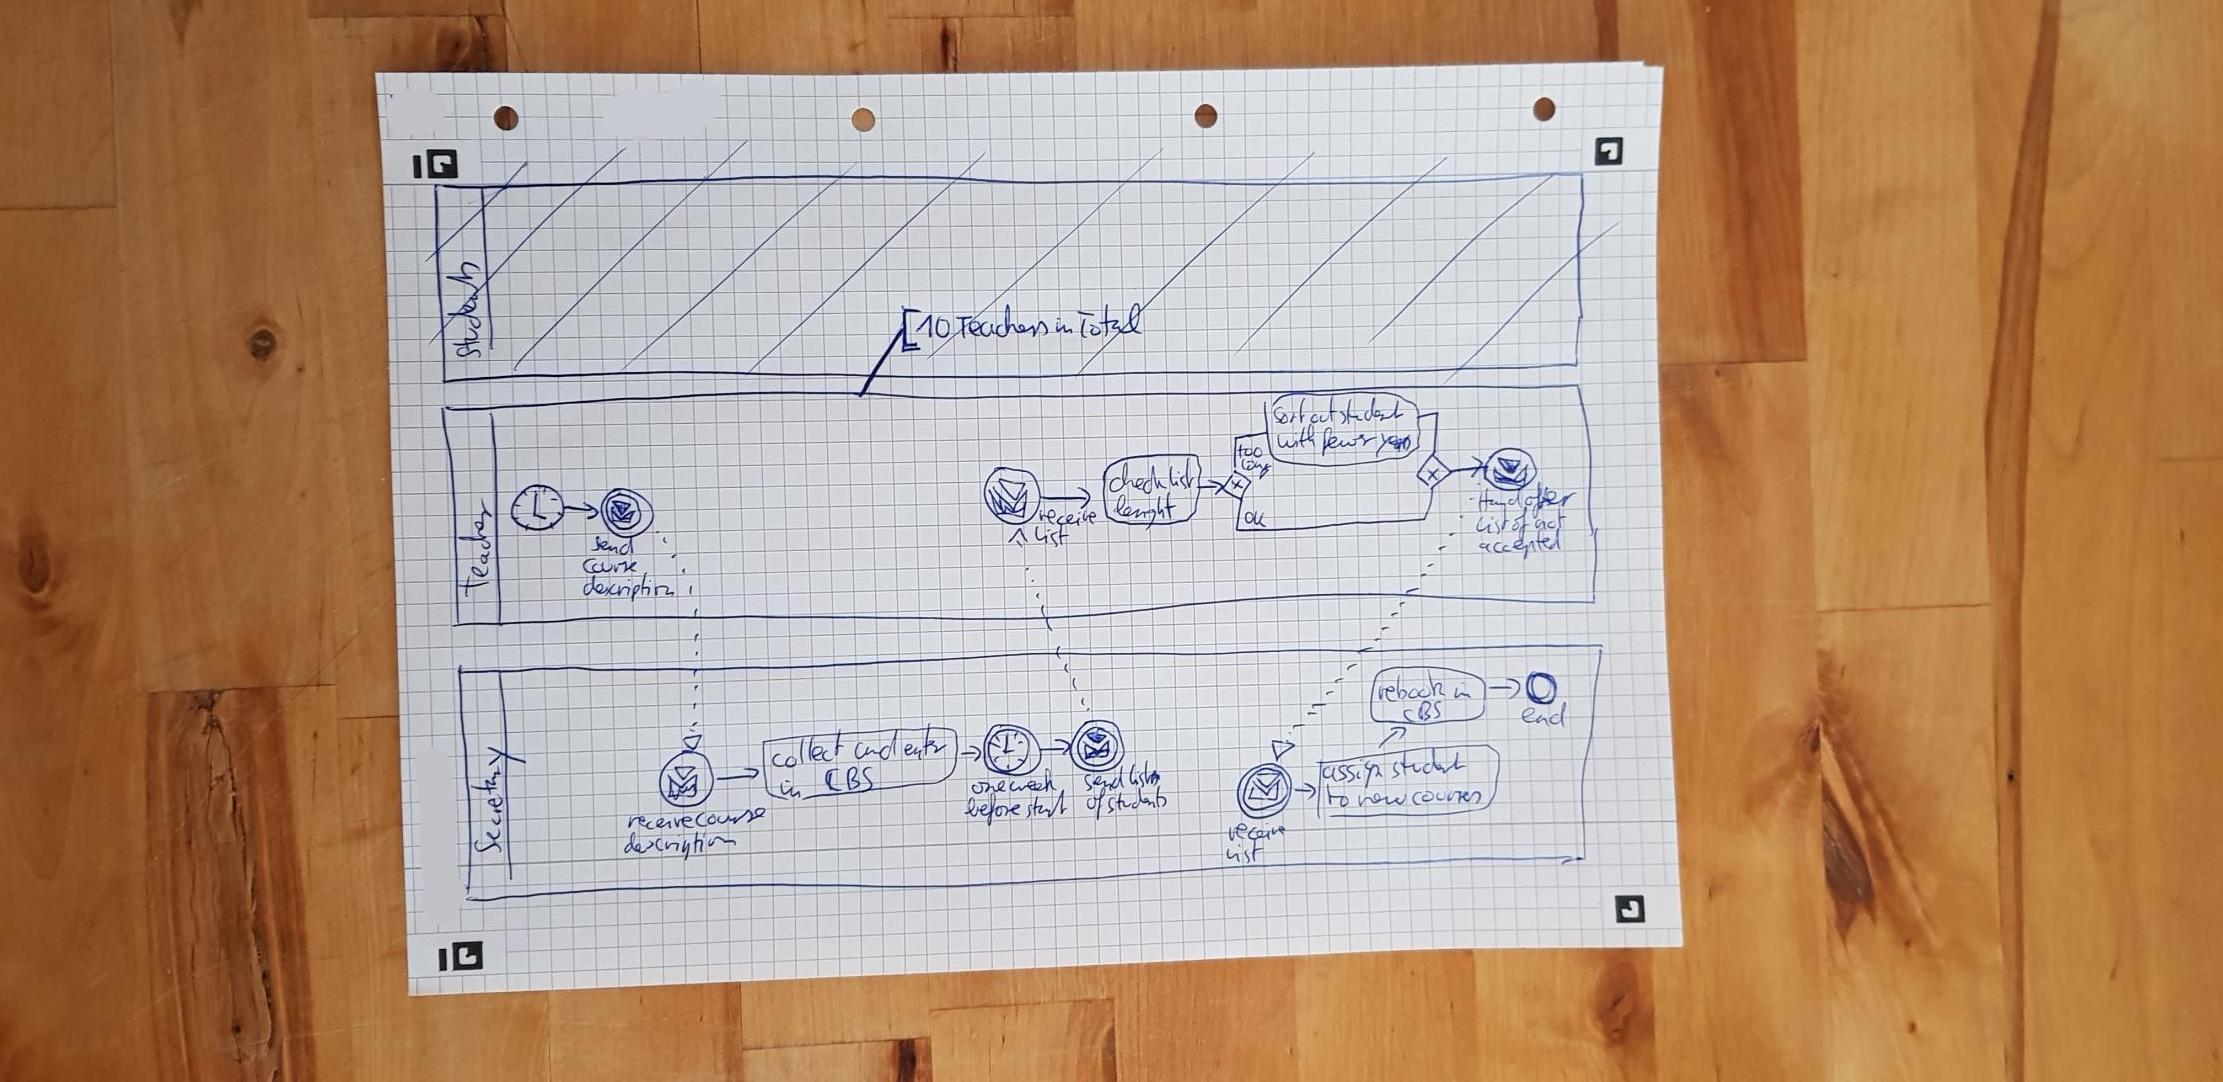10: (917, 309, 952, 343)
CBS: (824, 767, 873, 796), (1399, 699, 1442, 721)
Hand: (1475, 487, 1519, 512)
Send: (587, 534, 632, 558)
Teachers: (958, 304, 1050, 343)
Total: (1073, 305, 1144, 340)
accepted: (1473, 531, 1564, 561)
and: (852, 732, 897, 764)
assign: (1320, 756, 1381, 784)
before: (963, 794, 1022, 827)
check: (1106, 464, 1166, 492)
collect: (769, 732, 842, 770)
course: (693, 806, 765, 827), (580, 558, 638, 576)
courses: (1410, 788, 1483, 805)
description: (622, 831, 737, 859), (581, 572, 676, 602)
end: (1520, 702, 1565, 726)
enter: (900, 726, 944, 759)
fewer: (1317, 429, 1375, 454)
in: (778, 780, 806, 802), (1052, 312, 1075, 336), (1451, 681, 1473, 701)
length: (1110, 495, 1178, 524)
list: (1222, 840, 1260, 865), (1126, 761, 1162, 787), (1474, 511, 1508, 535), (1030, 526, 1069, 547), (1166, 459, 1194, 488)
long: (1237, 457, 1272, 480)
new: (1353, 788, 1407, 808)
not: (1533, 510, 1566, 530)
of: (1507, 506, 1533, 538), (1085, 789, 1106, 820)
offer: (1524, 482, 1576, 515)
ok: (1243, 508, 1270, 528)
one: (969, 780, 1007, 794)
out: (1307, 399, 1333, 425)
rebook: (1374, 672, 1444, 702)
receive: (624, 811, 692, 832), (1224, 819, 1289, 841), (1034, 508, 1095, 527)
secretary: (470, 748, 527, 858)
send: (1078, 766, 1123, 790)
sort: (1270, 399, 1307, 426)
start: (1022, 791, 1068, 819)
student: (1390, 749, 1467, 780), (1338, 397, 1403, 423)
students: (1106, 789, 1170, 815)
teacher: (453, 502, 495, 596)
to: (1321, 785, 1351, 807)
two: (1236, 443, 1267, 459)
week: (1007, 770, 1057, 795)
with: (1275, 429, 1320, 451)
years: (1375, 430, 1411, 454)
